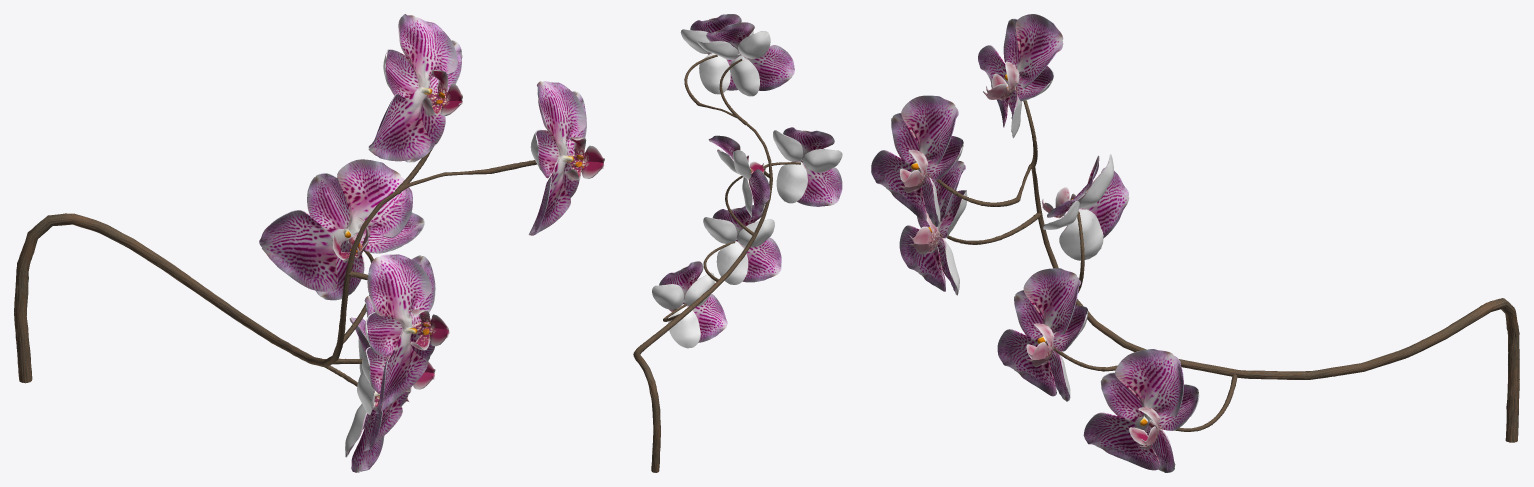
The model's file is tengahfullcomp2.glb.
The picture shows the model from 3 angles, left to right: view 1: azimuth 30°, elevation 25°; view 2: azimuth 150°, elevation 25°; view 3: azimuth 270°, elevation 25°; orthographic projection. The views are drawn at different scales.
Parts seen in each view (by area): view 1: Bake 1, BRANCH; view 2: Bake 1, BRANCH; view 3: Bake 1, BRANCH.
Part boxes in pixels (left/top/right/bottom): Bake 1: left=259, top=14, right=604, bottom=472; BRANCH: left=14, top=149, right=537, bottom=386; Bake 1: left=652, top=14, right=842, bottom=348; BRANCH: left=633, top=54, right=800, bottom=472; Bake 1: left=871, top=14, right=1199, bottom=472; BRANCH: left=936, top=100, right=1519, bottom=442.
Bounding box in the file's own units: 1.92 × 3.56 × 4.37.
2 materials, 2 textured.
